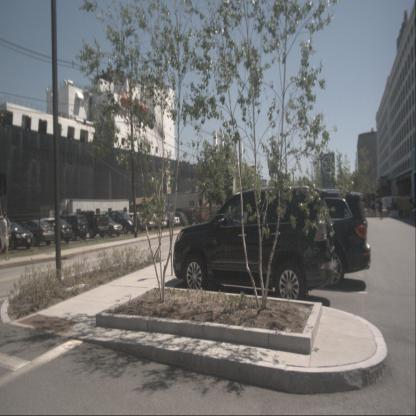human-pedestrian-adult: (0, 212, 10, 261), (371, 201, 377, 217), (379, 198, 383, 220)
vehicle-bus-rigid: (145, 204, 174, 228)
vehicle-car: (173, 185, 338, 302), (249, 187, 371, 290), (15, 220, 56, 247), (0, 221, 34, 250), (57, 214, 89, 241), (41, 218, 73, 244), (92, 216, 123, 237), (108, 211, 136, 234), (118, 214, 146, 232), (380, 196, 405, 215), (162, 212, 180, 228), (169, 211, 187, 227), (149, 215, 167, 229)
vehicle-truck: (73, 210, 109, 239), (170, 207, 196, 225), (184, 208, 207, 224)
